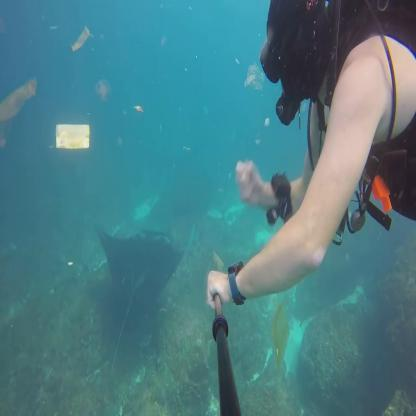Rác: (8, 76, 36, 128), (272, 304, 288, 368), (56, 126, 91, 148), (72, 28, 92, 42)
